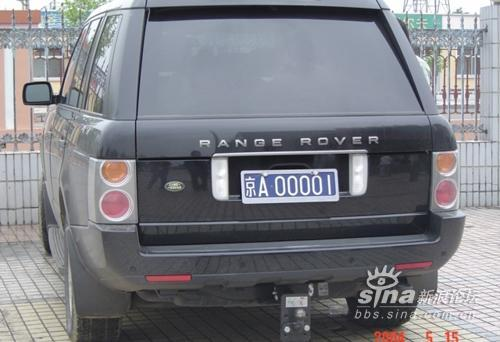plate_number: (238, 169, 342, 205)
